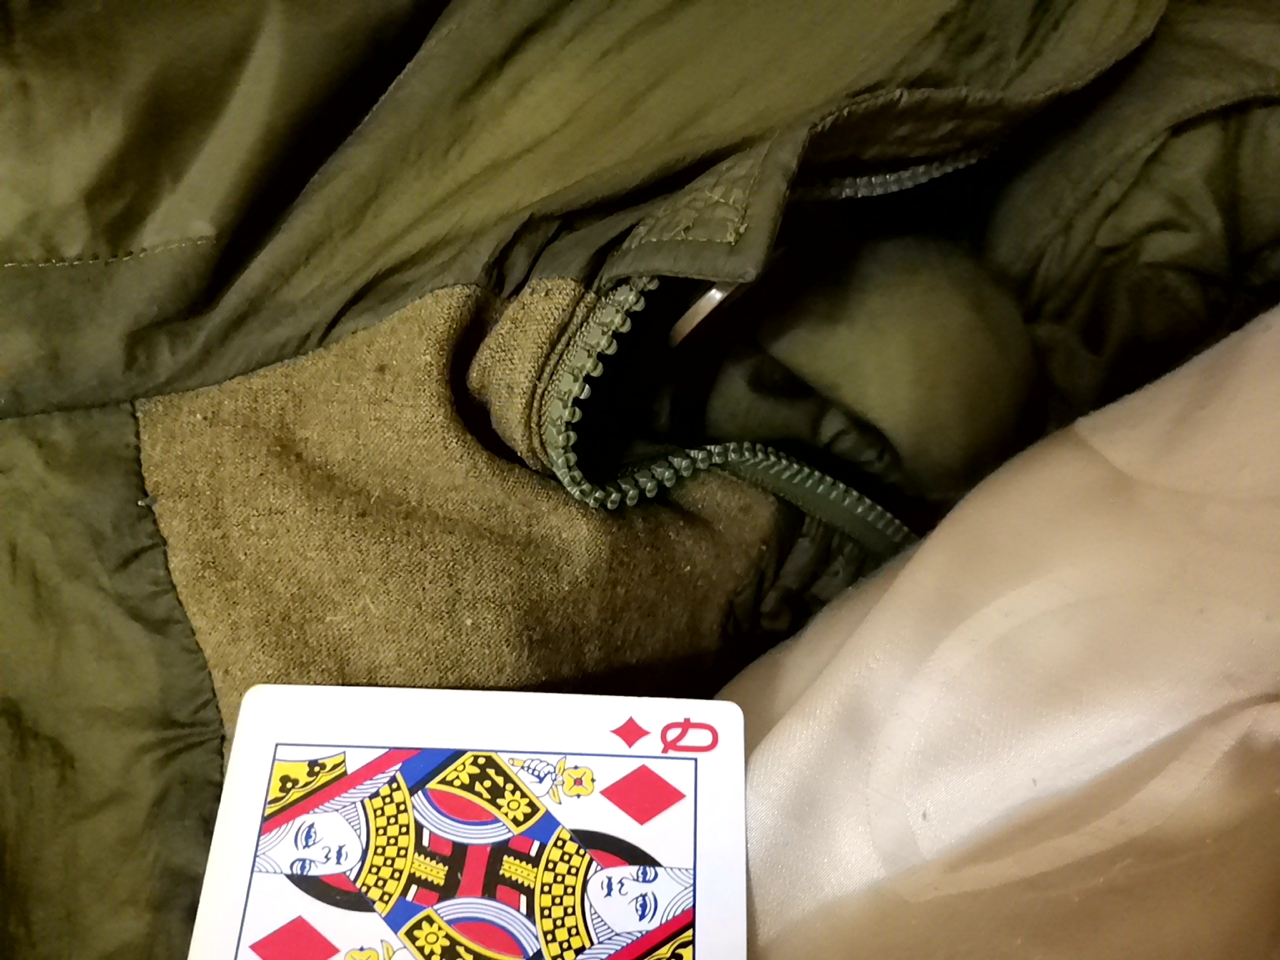fk q: (153, 659, 762, 958)
